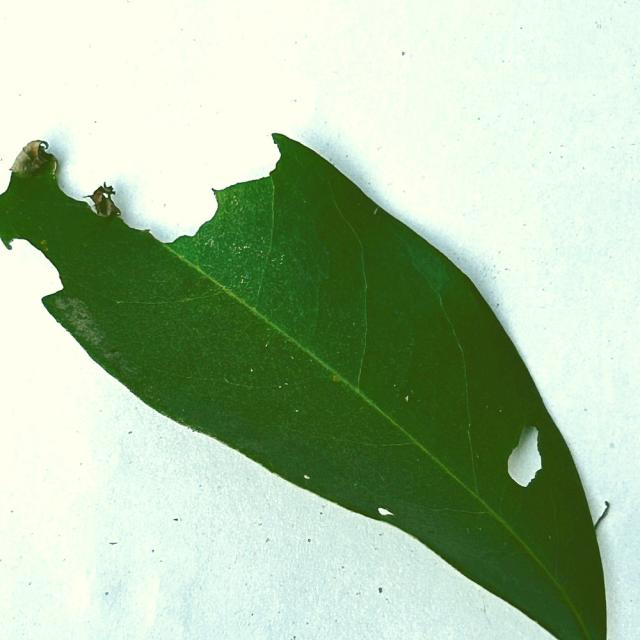Deficiency Leaf: (39, 116, 280, 242), (0, 239, 62, 321), (506, 426, 542, 492)
Lychee: (0, 134, 605, 639)
